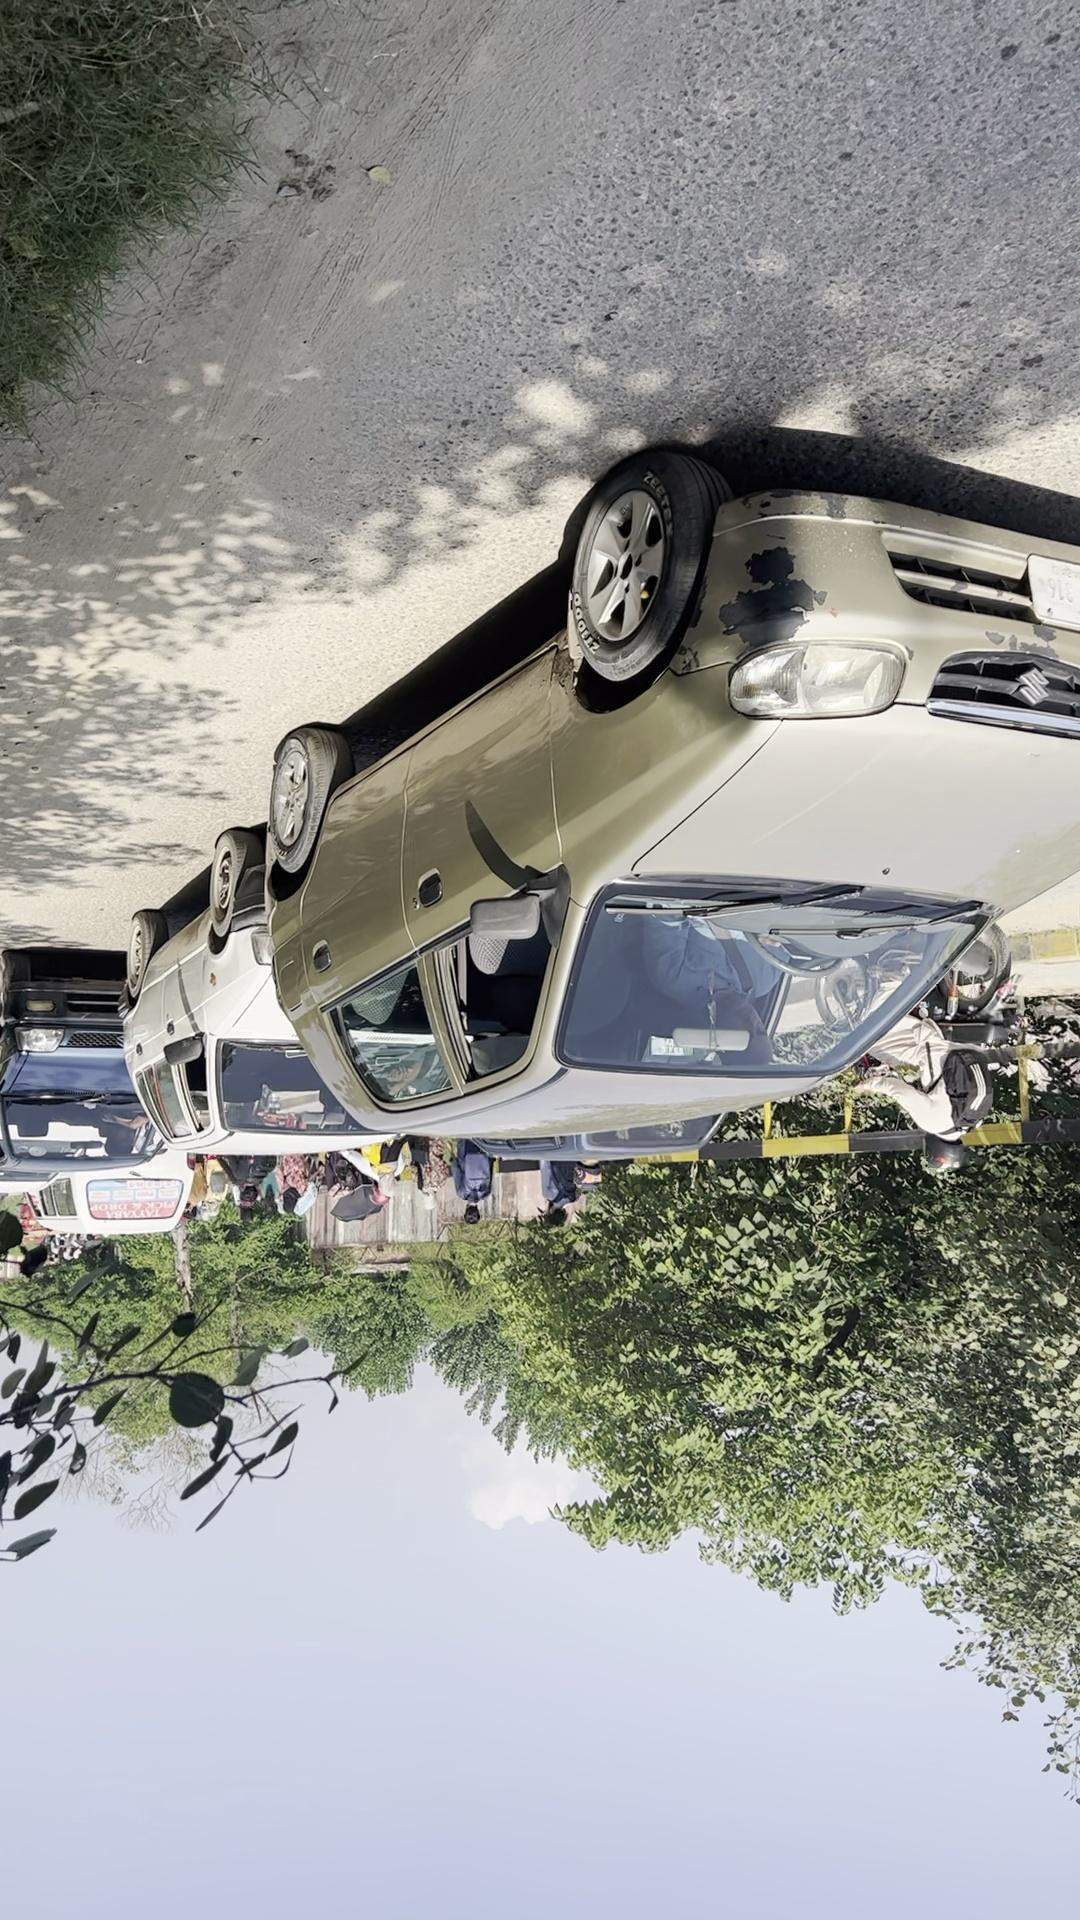windshield: (86, 820, 556, 1055)
